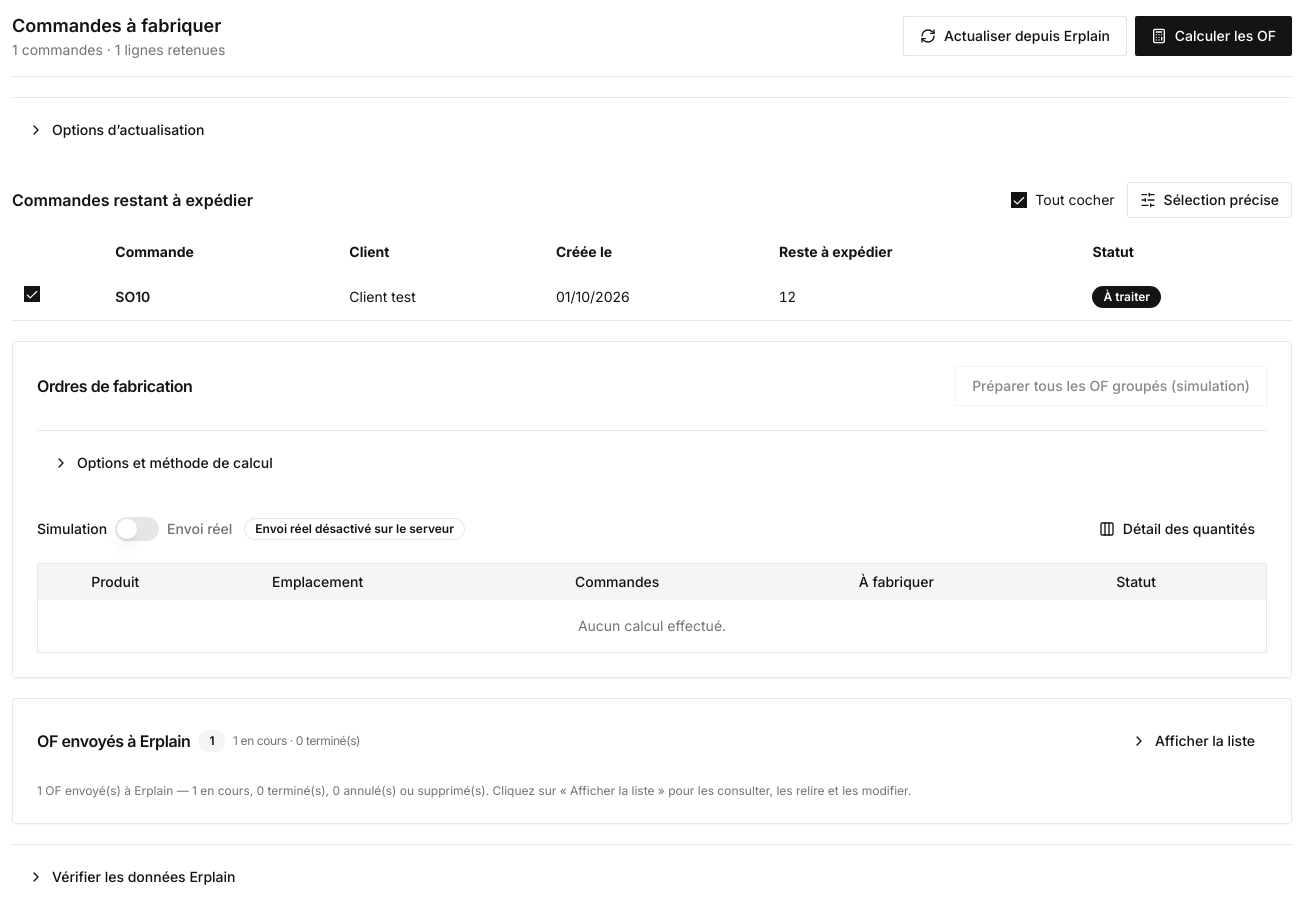
Scenario: Workshop order columns › restores hidden columns without changing selected data
The image size is (1304, 909).
Expected: the text "01/10/2026" is shown, x1=544 y1=274 x2=767 y2=320
Click the button "Sélection précise".
click(1209, 200)  # box x1=1127 y1=182 x2=1292 y2=218
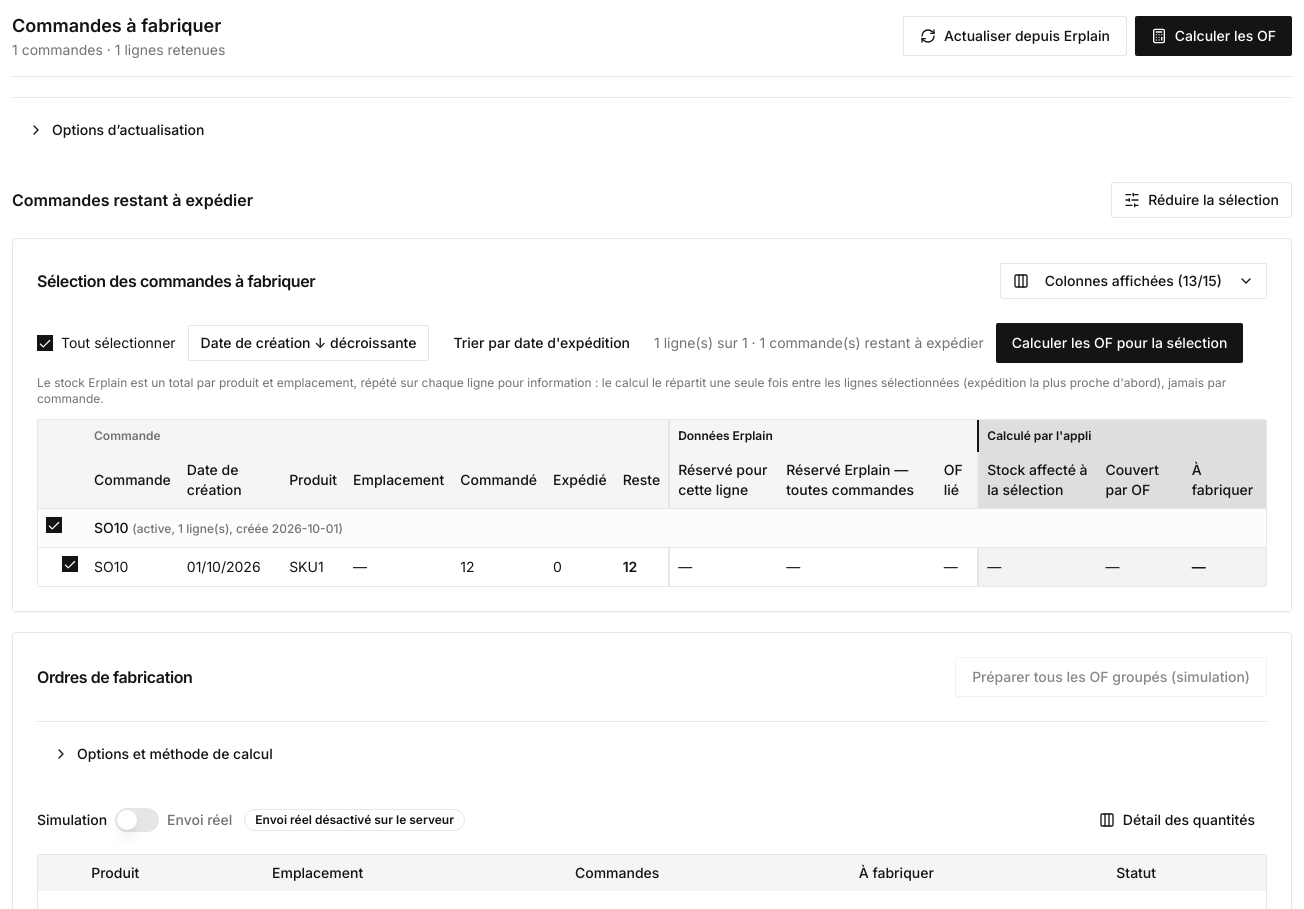
Result: the button "Colonnes affichées (13/15)" is shown at x1=1000 y1=263 x2=1267 y2=299
Result: the button "Calculer les OF pour la sélection" is enabled at x1=996 y1=323 x2=1243 y2=363
